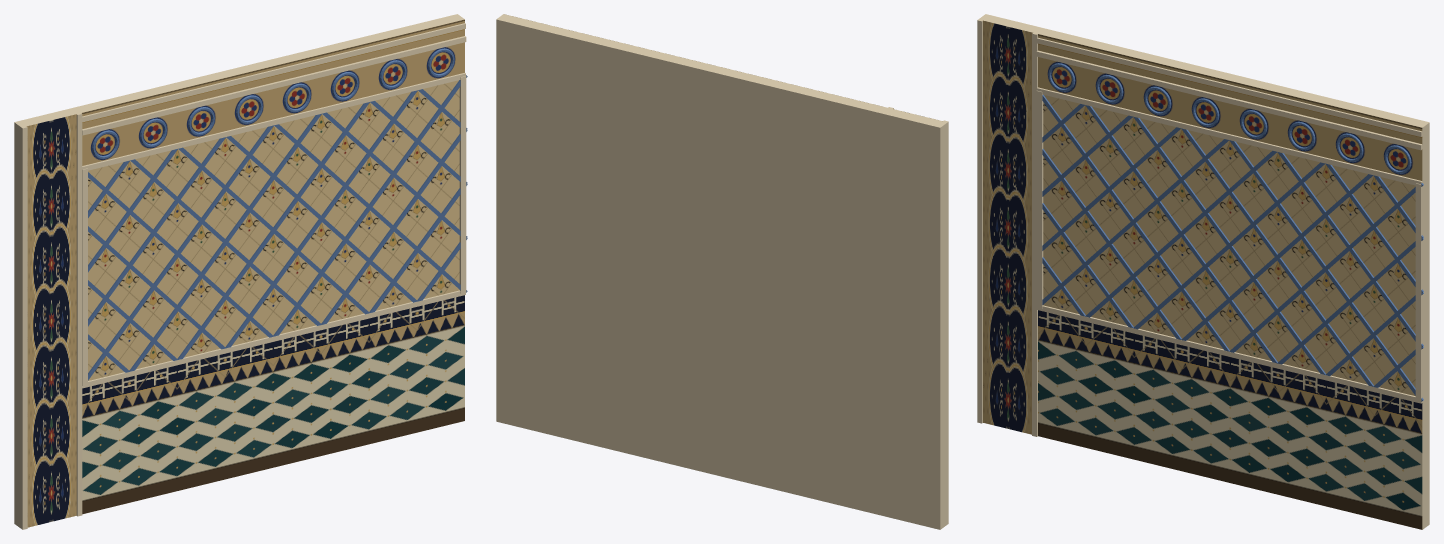
File: sy-alhambra-ornament-panel.glb
The picture shows the model from 3 angles, left to right: view 1: azimuth 30°, elevation 25°; view 2: azimuth 150°, elevation 25°; view 3: azimuth 330°, elevation 25°; orthographic projection.
Visible parts, largest first — view 1: PanelFront, SebkaRibs, StripFront, StripSlab, PanelSlab, StripRail.001, StripRail, CorniceLow, CorniceHigh, LedgeFieldTop, LedgeFieldBase, RoundelRings (+2 smaller); view 2: PanelSlab, StripSlab, StripRail; view 3: PanelFront, SebkaRibs, StripFront, PanelSlab, CorniceLow, CorniceHigh, LedgeFieldTop, LedgeFieldBase, StripRail, RoundelRings, StripRail.001, FieldFrame.001 (+1 smaller).
Part boxes in pixels (left/top/right/bottom): PanelFront: left=81, top=19, right=464, bottom=514; SebkaRibs: left=88, top=75, right=467, bottom=380; StripFront: left=26, top=114, right=76, bottom=527; StripSlab: left=14, top=107, right=80, bottom=528; PanelSlab: left=74, top=14, right=464, bottom=112; StripRail.001: left=76, top=112, right=82, bottom=516; StripRail: left=21, top=126, right=27, bottom=529; CorniceLow: left=82, top=36, right=466, bottom=135; CorniceHigh: left=82, top=23, right=465, bottom=122; LedgeFieldTop: left=82, top=73, right=465, bottom=170; LedgeFieldBase: left=82, top=290, right=465, bottom=388; RoundelRings: left=92, top=48, right=454, bottom=158; PanelSlab: left=496, top=14, right=887, bottom=515; StripSlab: left=880, top=108, right=947, bottom=529; StripRail: left=942, top=120, right=948, bottom=524; PanelFront: left=1038, top=34, right=1422, bottom=529; SebkaRibs: left=1042, top=94, right=1423, bottom=401; StripFront: left=983, top=20, right=1032, bottom=434; PanelSlab: left=1038, top=28, right=1429, bottom=529; CorniceLow: left=1036, top=50, right=1423, bottom=150; CorniceHigh: left=1037, top=37, right=1423, bottom=136; LedgeFieldTop: left=1037, top=87, right=1423, bottom=185; LedgeFieldBase: left=1037, top=305, right=1423, bottom=403; StripRail: left=977, top=19, right=982, bottom=423; RoundelRings: left=1048, top=63, right=1411, bottom=173; StripRail.001: left=1032, top=33, right=1037, bottom=436; FieldFrame.001: left=1415, top=183, right=1422, bottom=401.
Bounding box in the file's own units: 4.18 × 3.6 × 0.144.
Materials: 4 (2 with a texture image).
